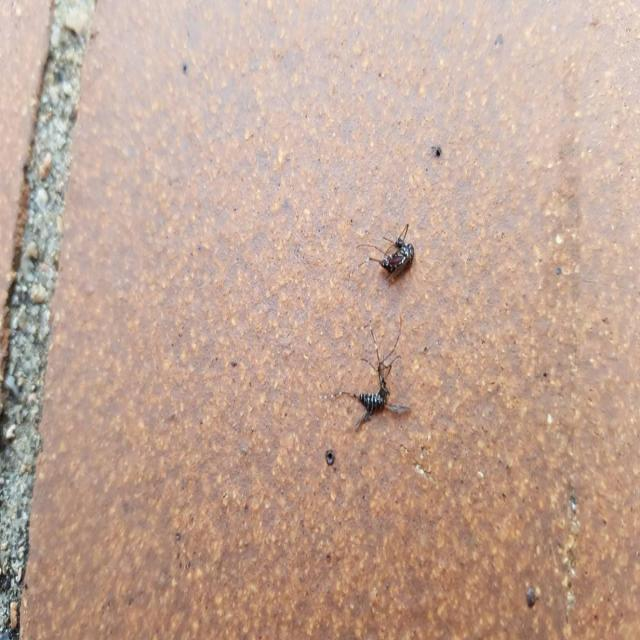albopictus: (315, 311, 411, 453)
